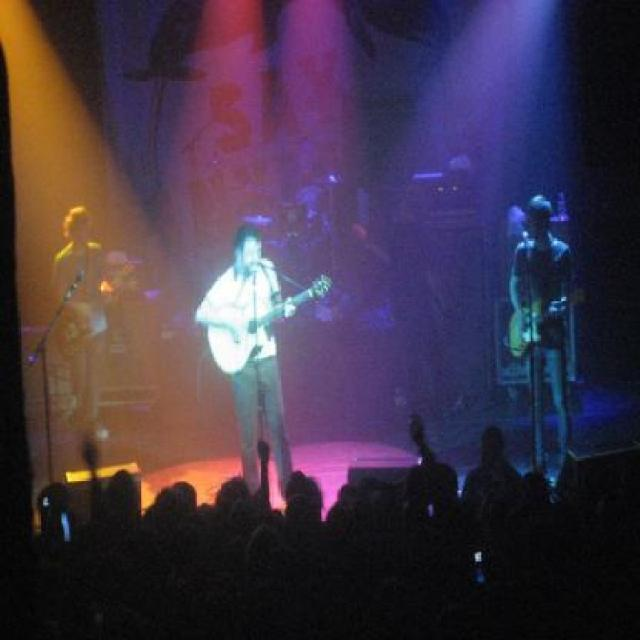Person: (11, 430, 638, 638), (194, 226, 308, 514), (509, 174, 586, 498), (384, 179, 474, 443), (51, 199, 111, 450), (343, 206, 389, 323)
